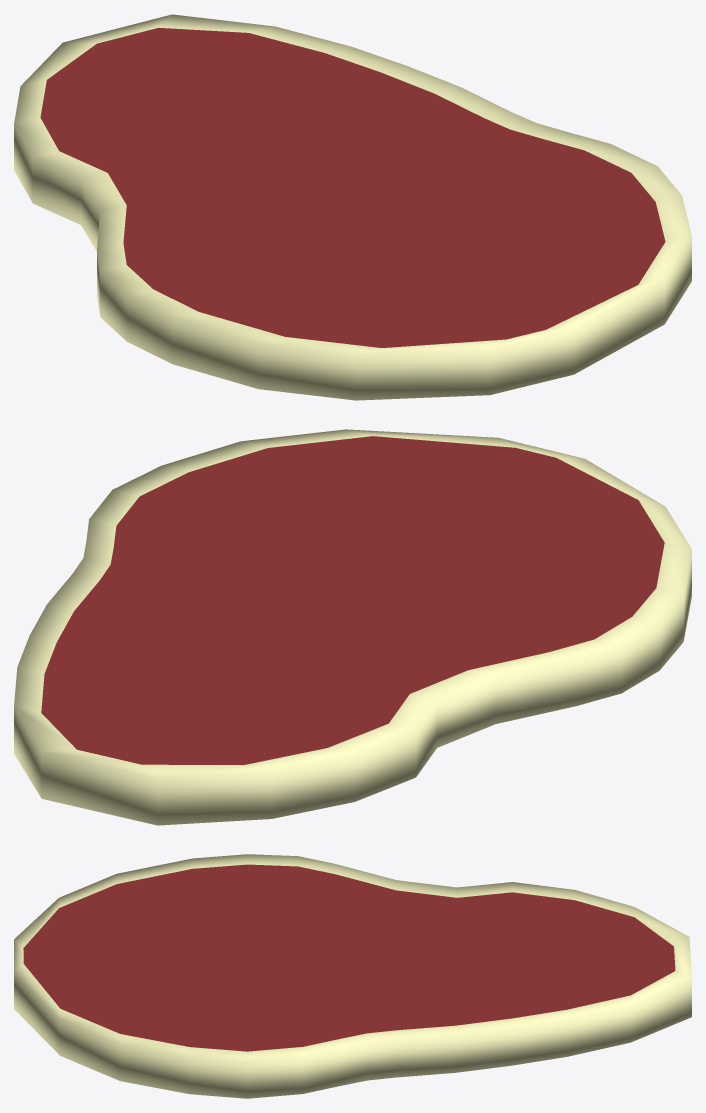
The model's file is MeatRaw.glb.
The picture shows the model from 3 angles, top to bottom: view 1: azimuth 30°, elevation 25°; view 2: azimuth 150°, elevation 25°; view 3: azimuth 270°, elevation 25°; orthographic projection. The views are drawn at different scales.
Visible parts, largest first — view 1: Cube.110; view 2: Cube.110; view 3: Cube.110.
Boxes of the visible parts, x1,y1,x2,y2 form: Cube.110: (14, 14, 691, 400); Cube.110: (14, 429, 691, 825); Cube.110: (14, 854, 691, 1098).
Bounding box in the file's own units: 0.3424 × 0.0283 × 0.4722.
